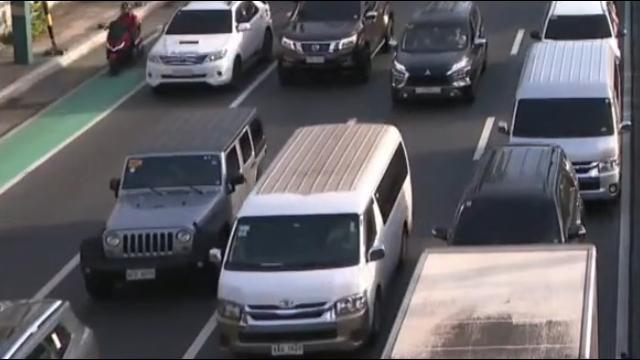car: (74, 109, 269, 300), (451, 145, 588, 245), (140, 0, 269, 89), (274, 0, 401, 87), (373, 0, 487, 87)
motorcycle: (98, 19, 142, 81)
truck: (377, 243, 604, 360)
van: (213, 124, 415, 357), (499, 39, 629, 203)
